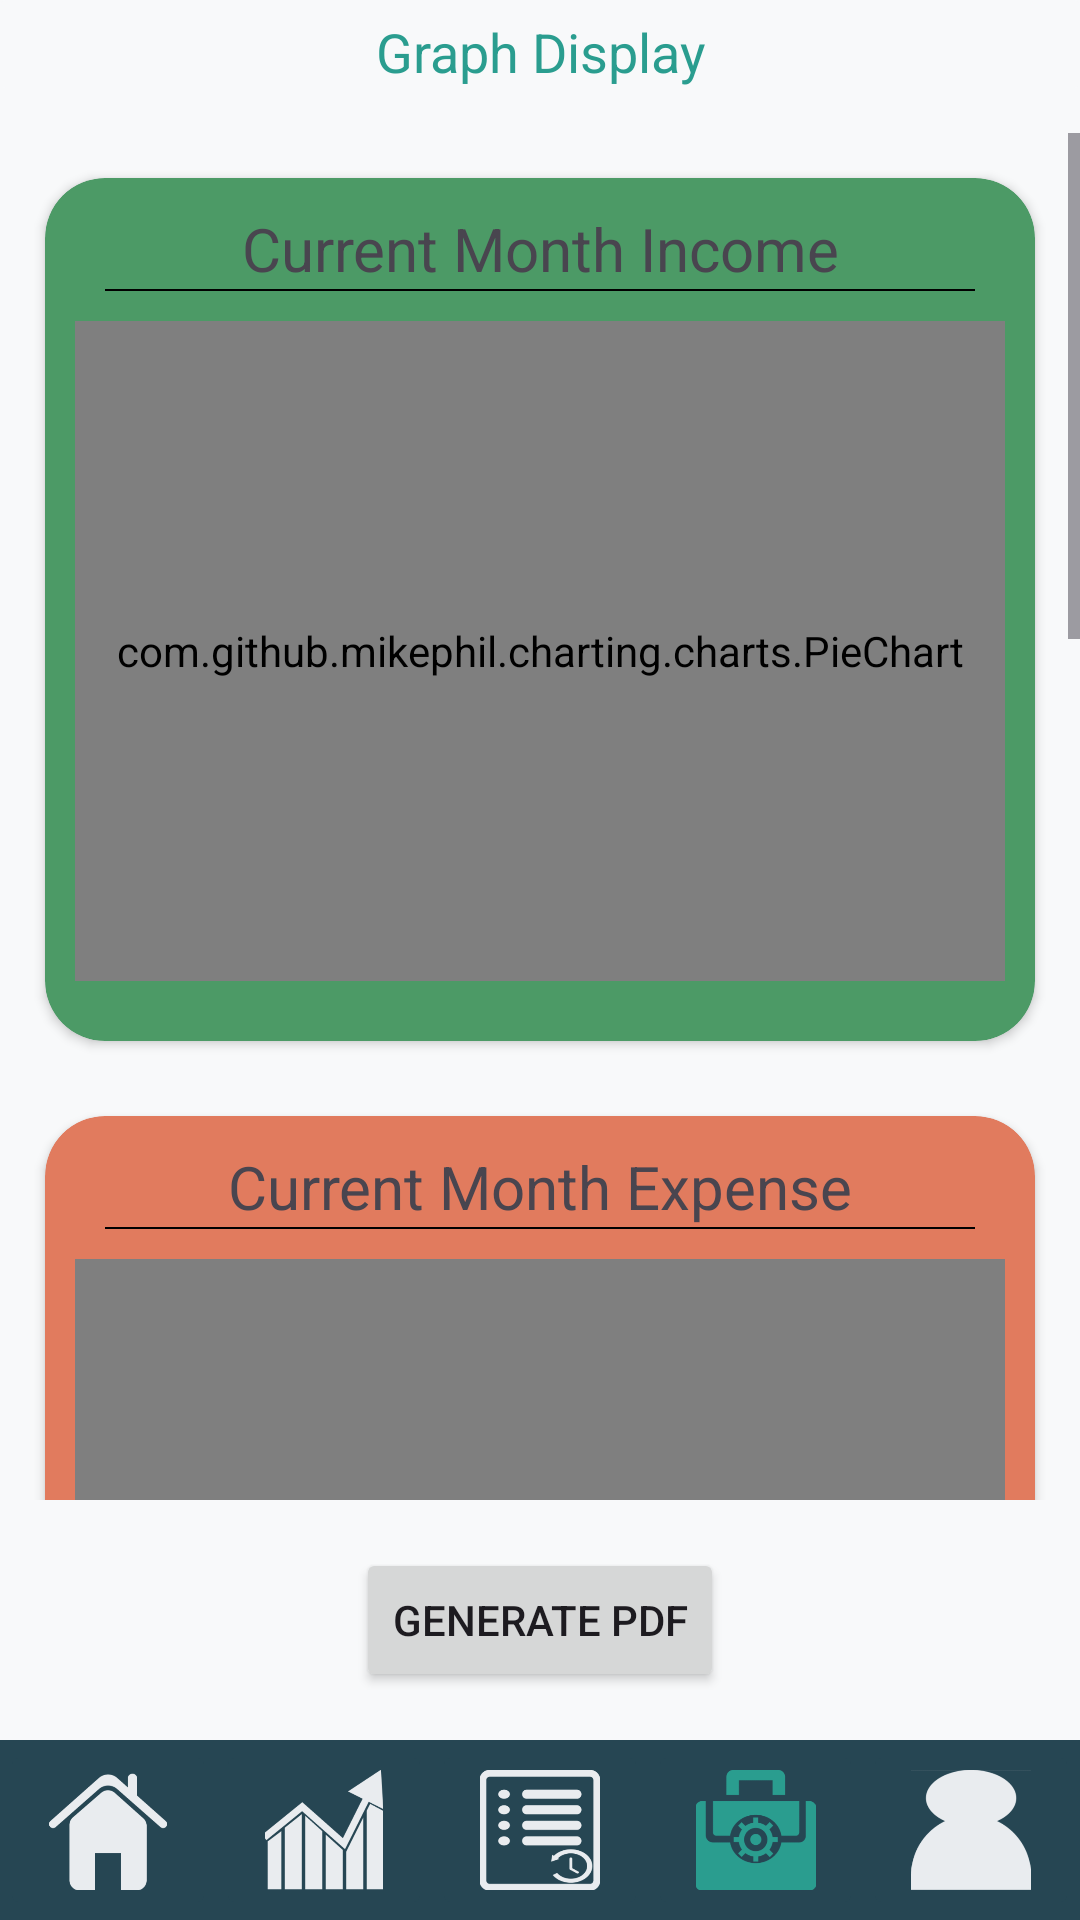

Icon bounding boxes for this 1080px×1920px phone screenshot, format Rect(x1, y1, x2, y2):
Budget Settings: Rect(696, 1770, 816, 1890)
Graphs: Rect(265, 1770, 383, 1890)
Home: Rect(49, 1773, 167, 1890)
Profile: Rect(911, 1770, 1031, 1890)
Transaction History: Rect(480, 1770, 600, 1890)
